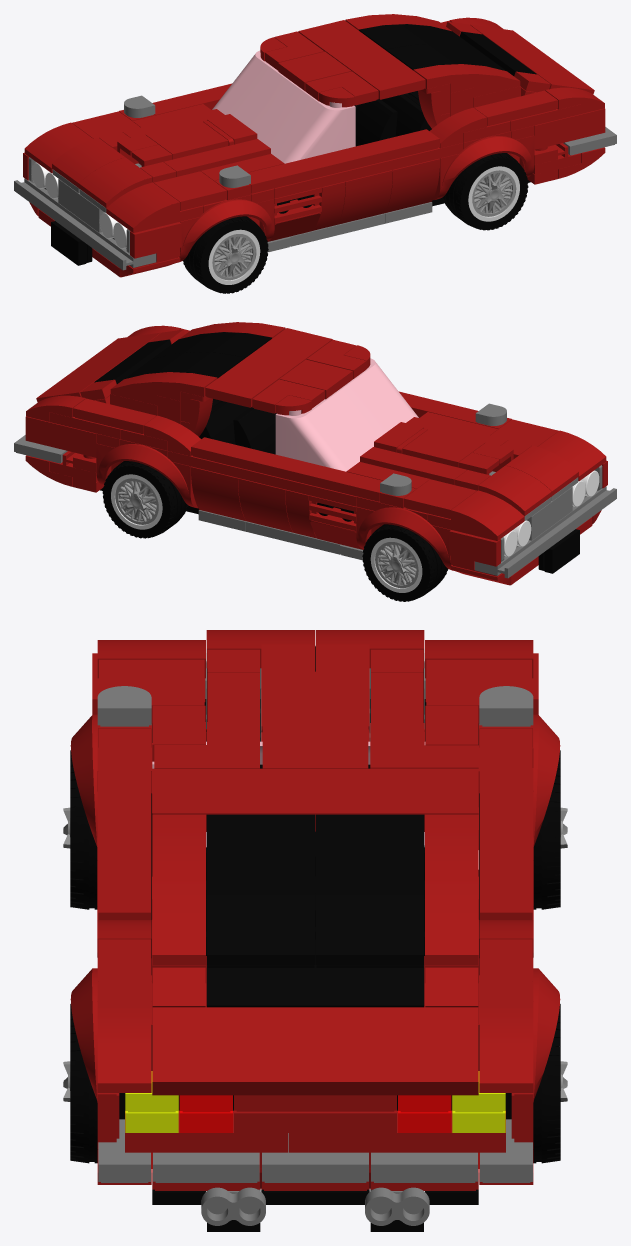
The model's file is aston.glb.
3 renders of one model, top to bottom at view 1: azimuth 30°, elevation 25°; view 2: azimuth 150°, elevation 25°; view 3: azimuth 270°, elevation 25°, orthographic. The views are drawn at different scales.
Visible parts, largest first — view 1: SOLID-DARK_RED, SOLID-BLACK.005, Transparent_Glass, SOLID-LIGHT_BLUISH_GRAY.004, METAL-SILVER.001, PEARL-FLAT_SILVER, Glass.001; view 2: SOLID-DARK_RED, SOLID-BLACK.005, Transparent_Glass, SOLID-LIGHT_BLUISH_GRAY.004, METAL-SILVER.001, PEARL-FLAT_SILVER, Glass.001; view 3: SOLID-DARK_RED, SOLID-BLACK.005, SOLID-LIGHT_BLUISH_GRAY.004, TRANS-ORANGE, TRANS-RED, METAL-SILVER.001.
Boxes of the visible parts, bbox=[...] form: SOLID-DARK_RED: bbox=[23, 14, 605, 277]; SOLID-BLACK.005: bbox=[51, 24, 536, 293]; Transparent_Glass: bbox=[212, 50, 355, 163]; SOLID-LIGHT_BLUISH_GRAY.004: bbox=[14, 95, 616, 270]; METAL-SILVER.001: bbox=[212, 170, 515, 280]; PEARL-FLAT_SILVER: bbox=[208, 166, 519, 284]; Glass.001: bbox=[31, 162, 127, 248]; SOLID-DARK_RED: bbox=[25, 322, 607, 585]; SOLID-BLACK.005: bbox=[94, 332, 579, 601]; Transparent_Glass: bbox=[275, 358, 418, 471]; SOLID-LIGHT_BLUISH_GRAY.004: bbox=[14, 403, 616, 578]; METAL-SILVER.001: bbox=[115, 478, 418, 588]; PEARL-FLAT_SILVER: bbox=[111, 474, 422, 592]; Glass.001: bbox=[503, 470, 599, 556]; SOLID-DARK_RED: bbox=[70, 630, 560, 1190]; SOLID-BLACK.005: bbox=[70, 646, 560, 1231]; SOLID-LIGHT_BLUISH_GRAY.004: bbox=[97, 645, 533, 1225]; TRANS-ORANGE: bbox=[125, 1071, 505, 1132]; TRANS-RED: bbox=[179, 1095, 451, 1132]; METAL-SILVER.001: bbox=[63, 807, 567, 1101].
Bounding box in the file's own units: 7.76 × 2.2 × 3.4.
